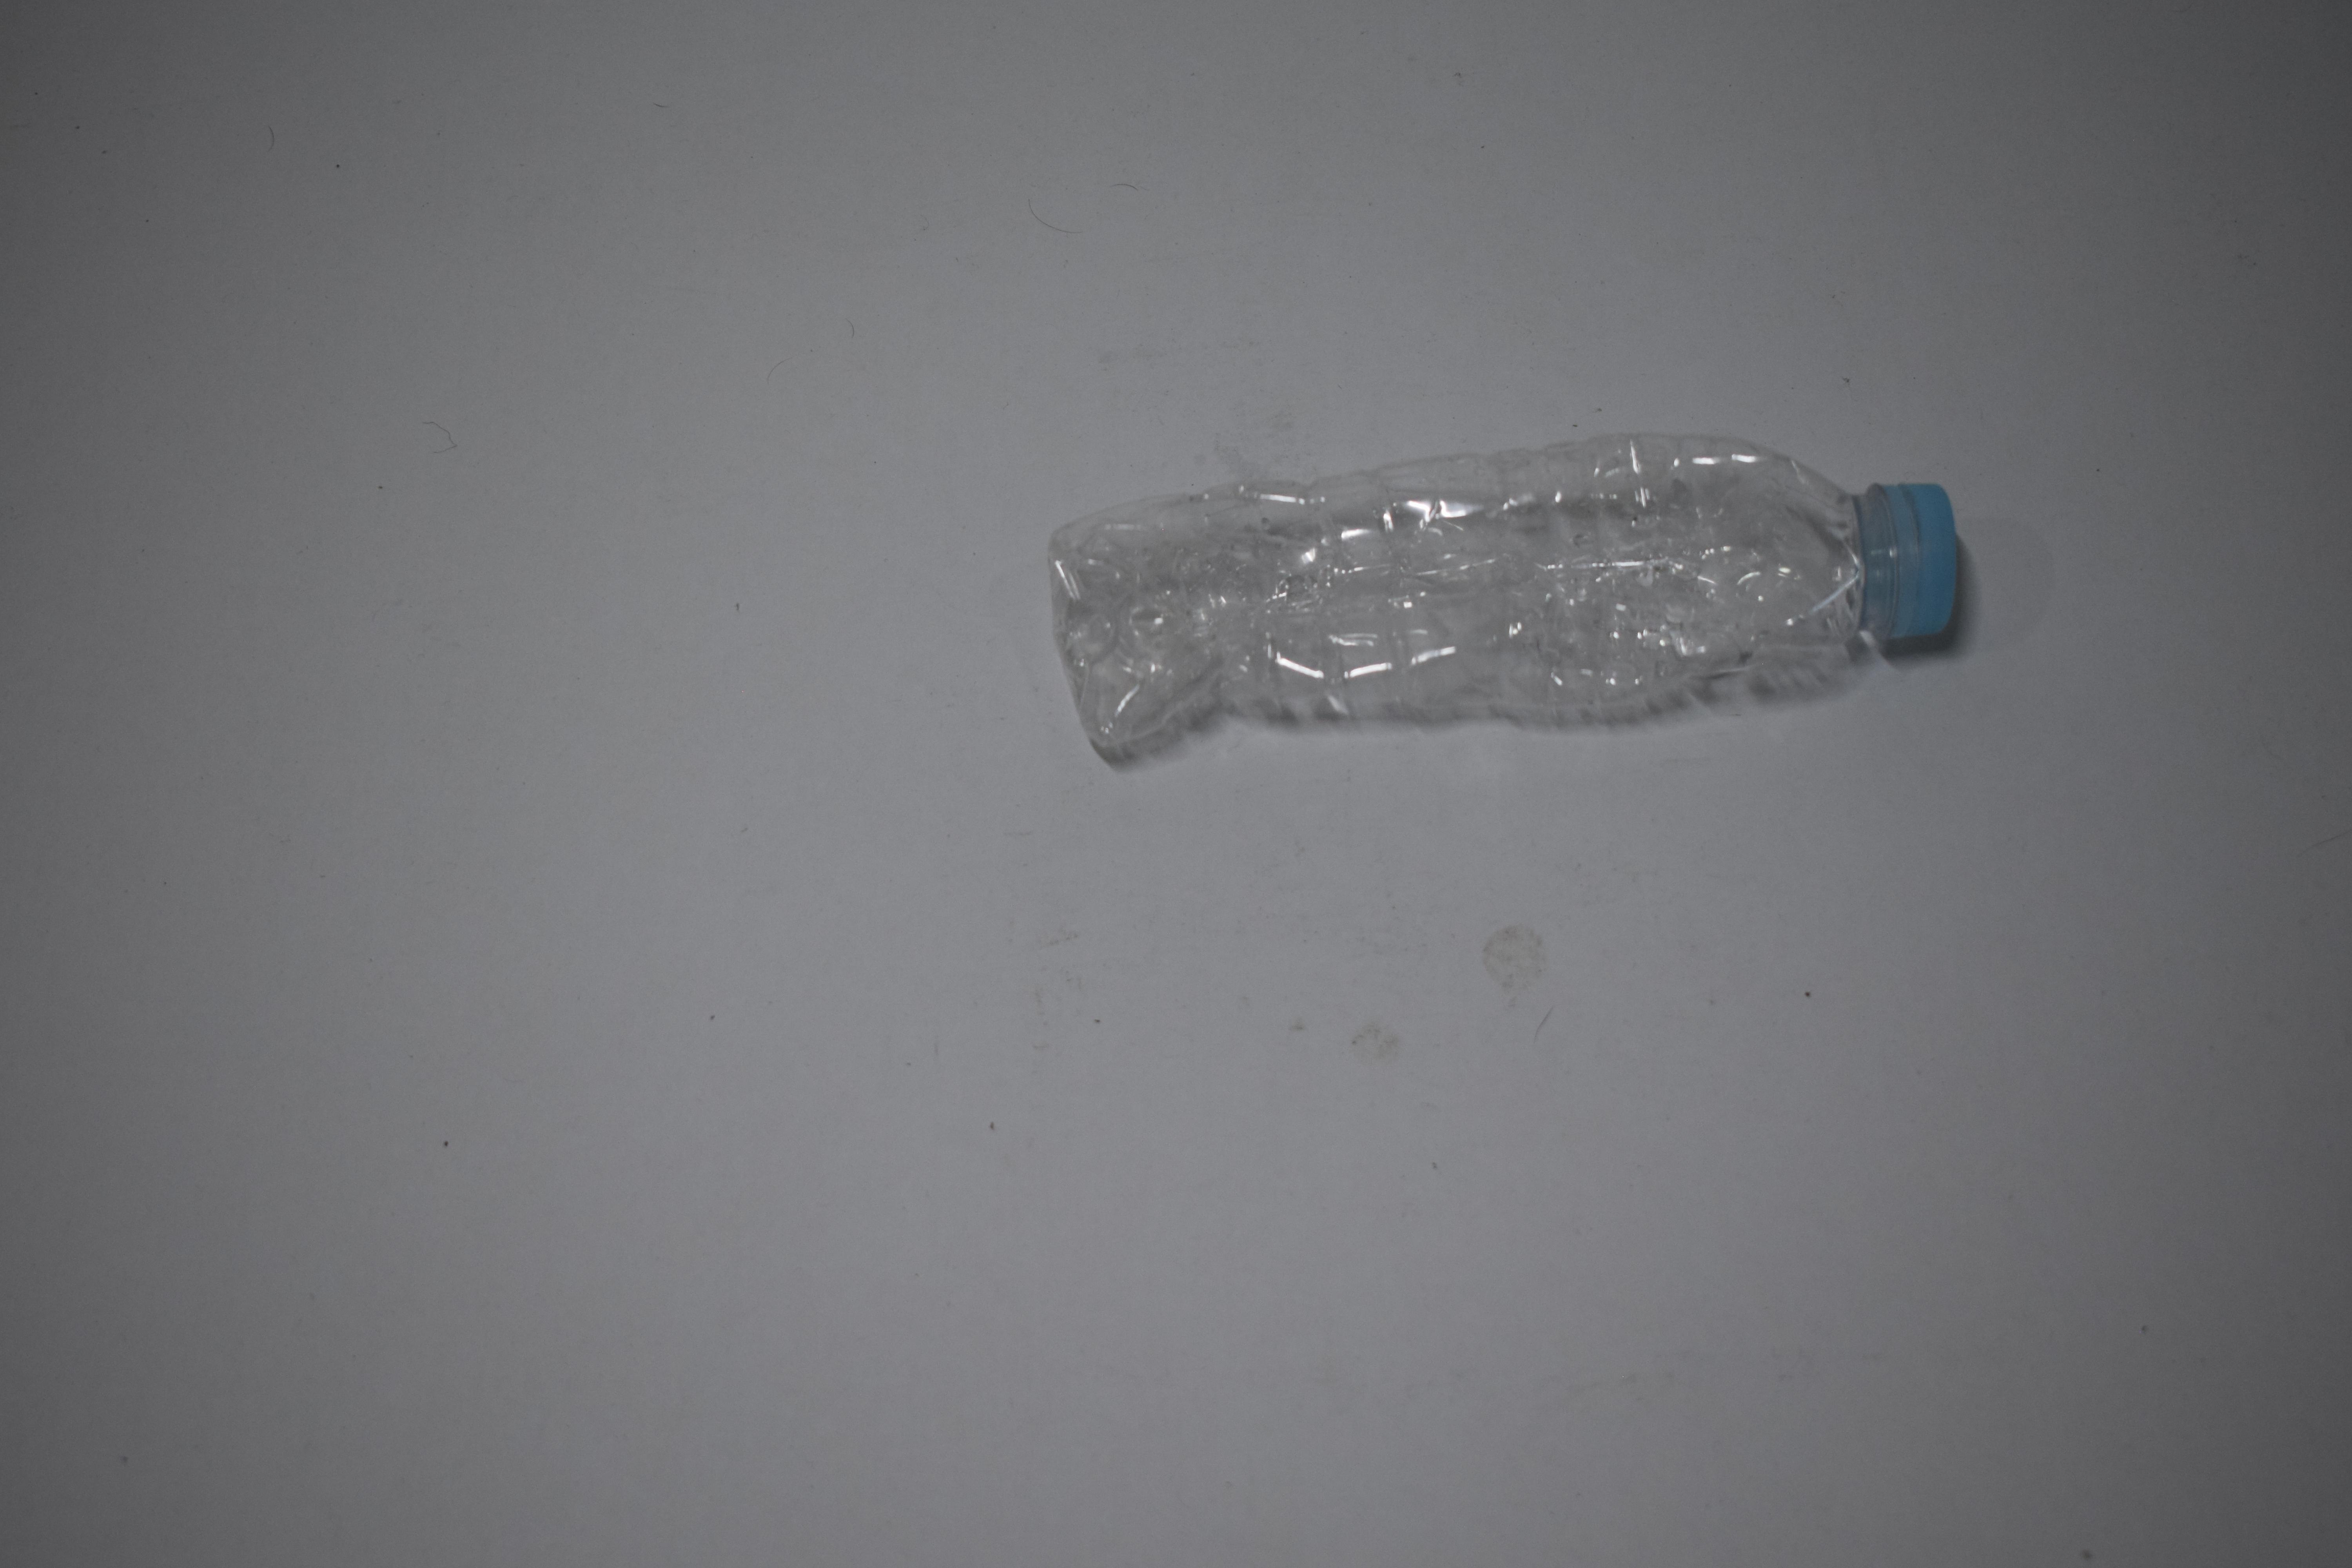bottle: (1034, 434, 1979, 779)
